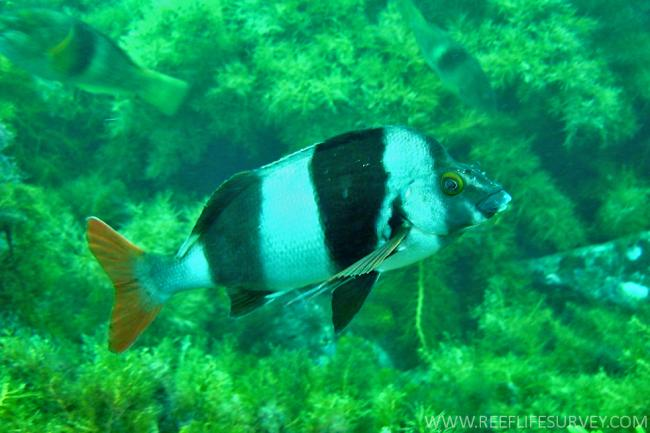fish: (87, 126, 513, 354)
